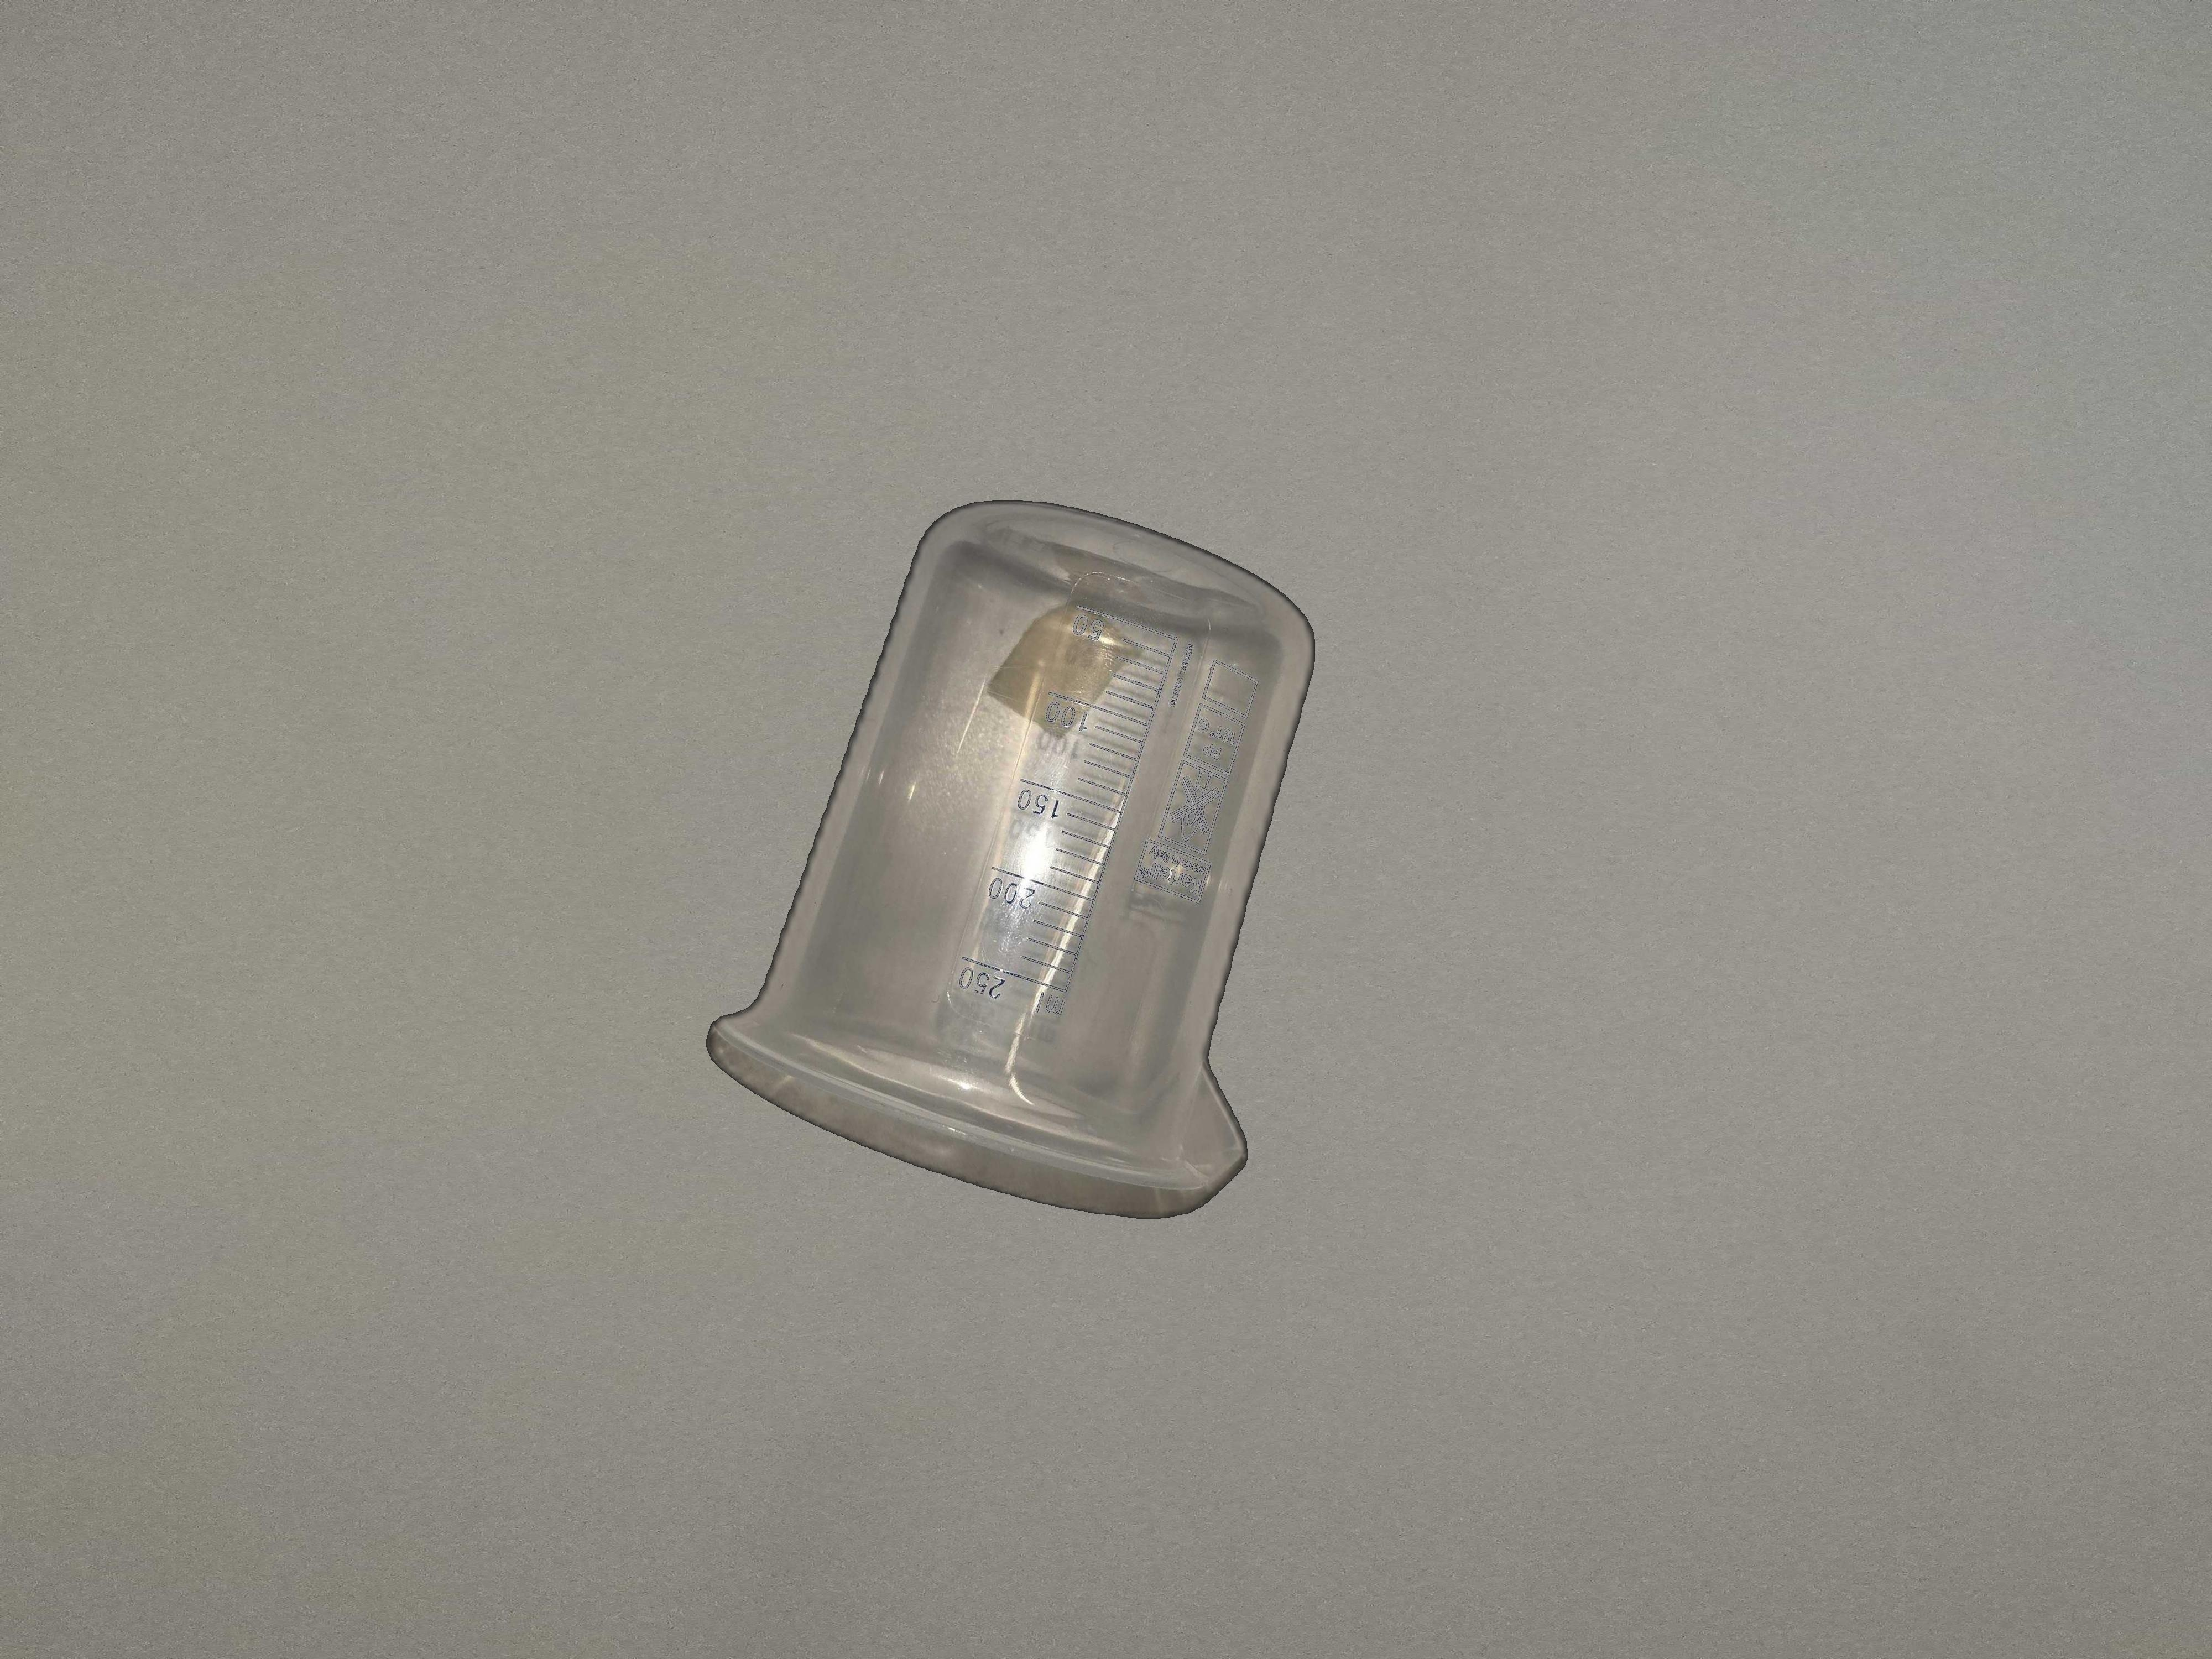becker: (704, 498, 1315, 1225)
